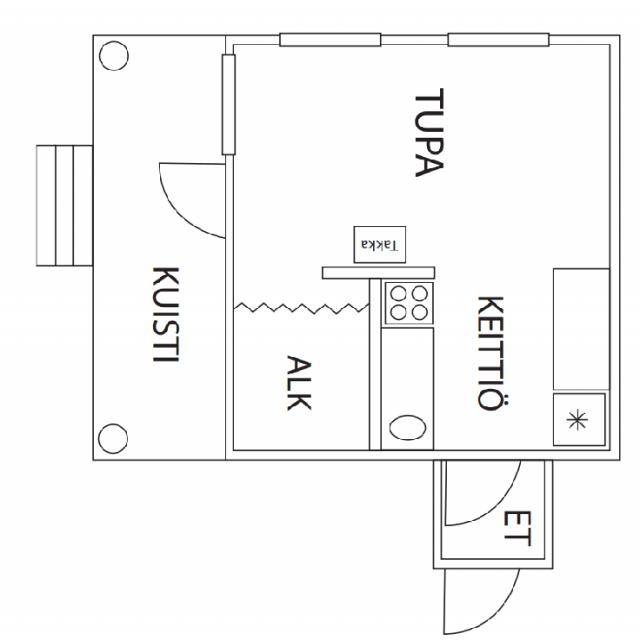door: (150, 163, 233, 238), (446, 450, 520, 533), (444, 559, 519, 640)
